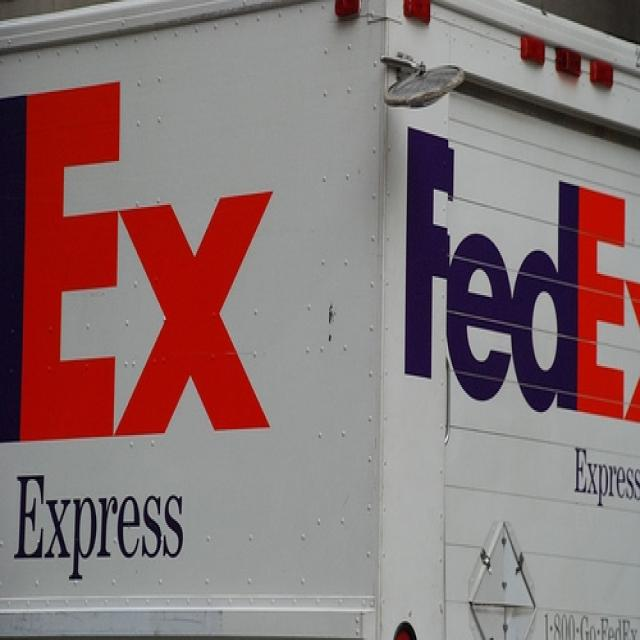fedex: (2, 64, 289, 463), (403, 116, 640, 432)
